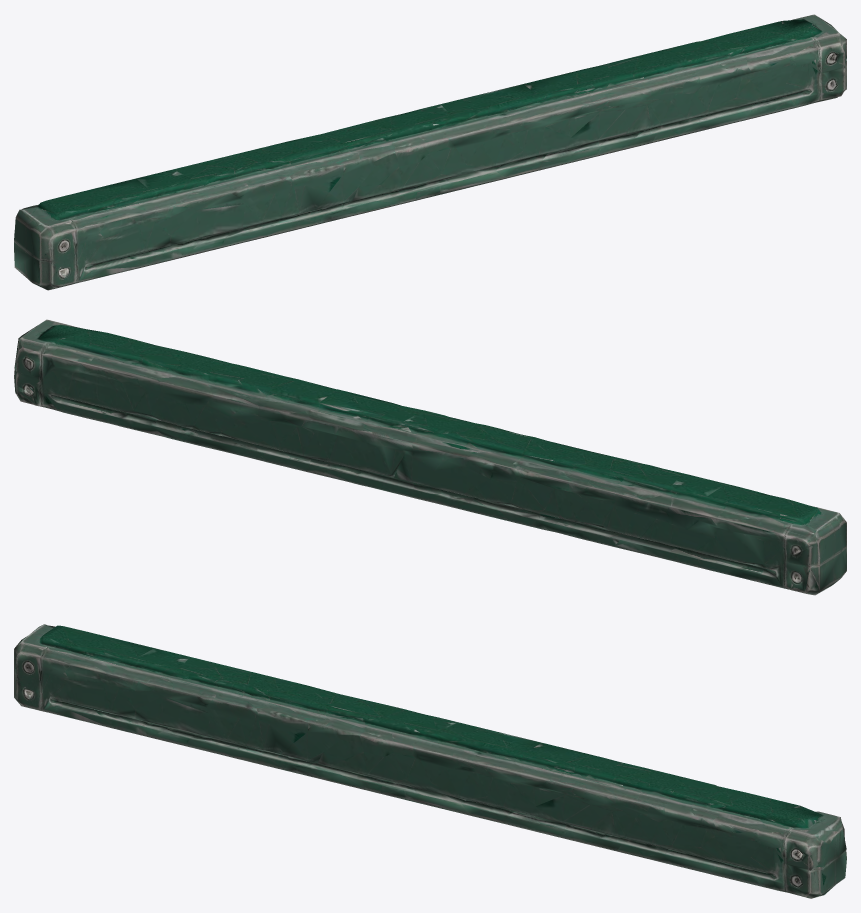
File: obstacle-wall-table.glb
3 renders of one model, top to bottom at view 1: azimuth 30°, elevation 25°; view 2: azimuth 150°, elevation 25°; view 3: azimuth 330°, elevation 25°, orthographic.
Size of the model in its own units: 1.9 by 0.1629 by 0.1465.
Materials: 1 (1 with a texture image).
